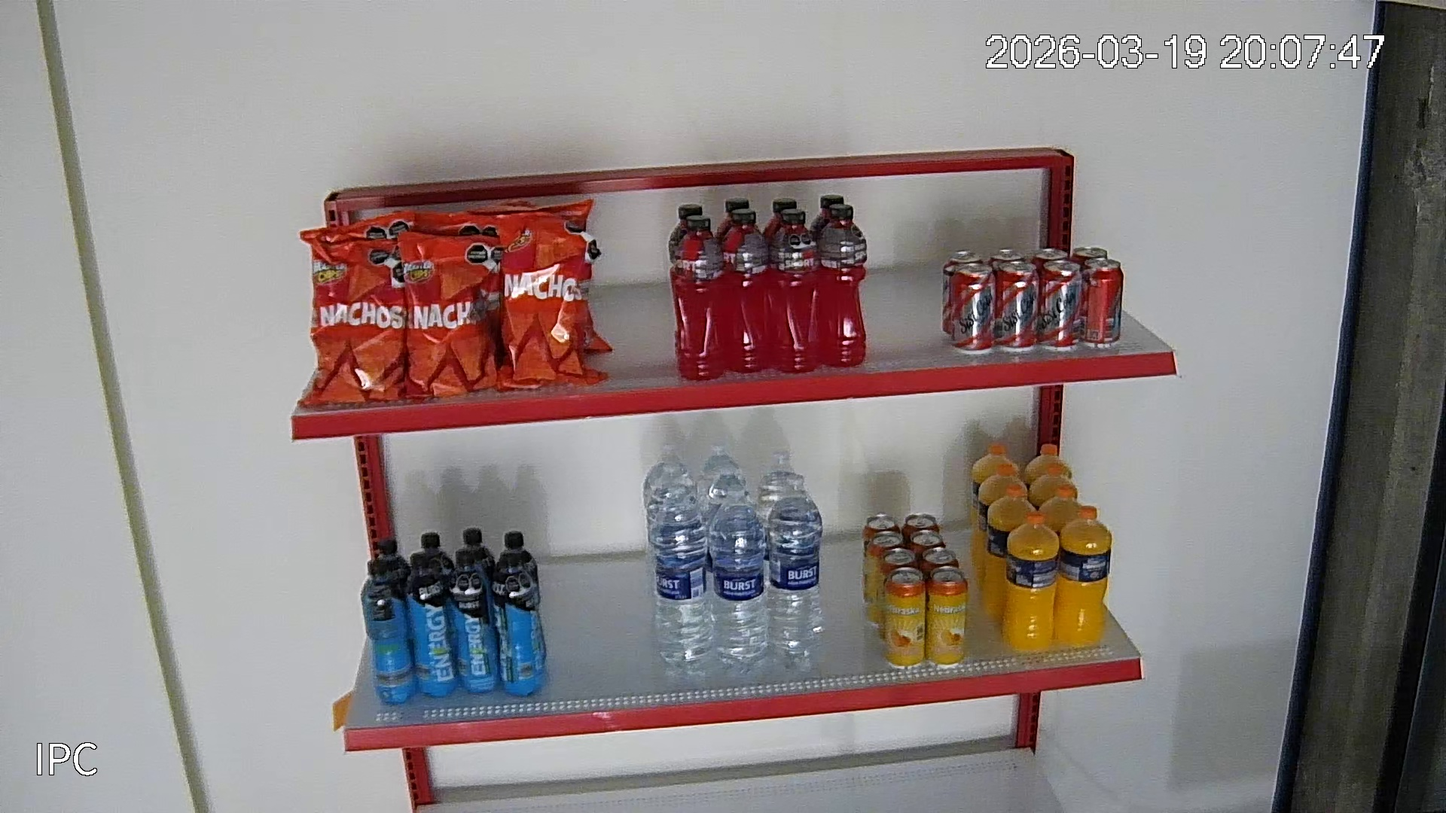agua_burst: (650, 487, 714, 669), (757, 449, 796, 533), (701, 444, 747, 509)
burst_energetica_roja: (809, 204, 867, 364), (670, 215, 724, 377), (715, 196, 752, 240)
burst_energy: (492, 551, 551, 695), (421, 533, 453, 586), (463, 528, 495, 578)
nachos_naturasol: (399, 233, 502, 397), (465, 198, 592, 232), (416, 211, 497, 233)
nebraska_mango: (886, 567, 925, 666), (863, 514, 900, 563), (912, 530, 944, 562)
sisi_cola: (1038, 261, 1081, 351), (951, 264, 993, 351), (1068, 247, 1106, 269)
sun_paradise_naranja: (975, 464, 1028, 584), (1039, 486, 1082, 537), (1026, 444, 1069, 485)
